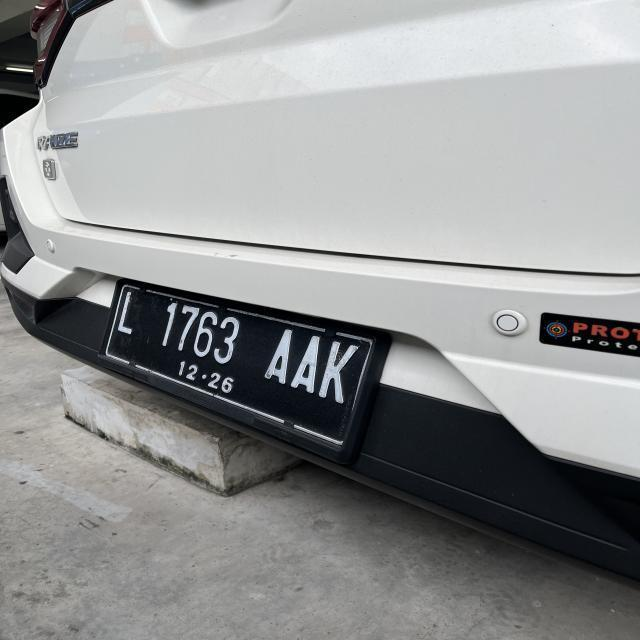1: (162, 299, 176, 348)
3: (218, 314, 240, 366)
6: (198, 308, 215, 359)
7: (178, 304, 194, 354)
A: (262, 324, 288, 384), (294, 334, 316, 394)
K: (319, 339, 354, 402)
L: (116, 288, 138, 336)
